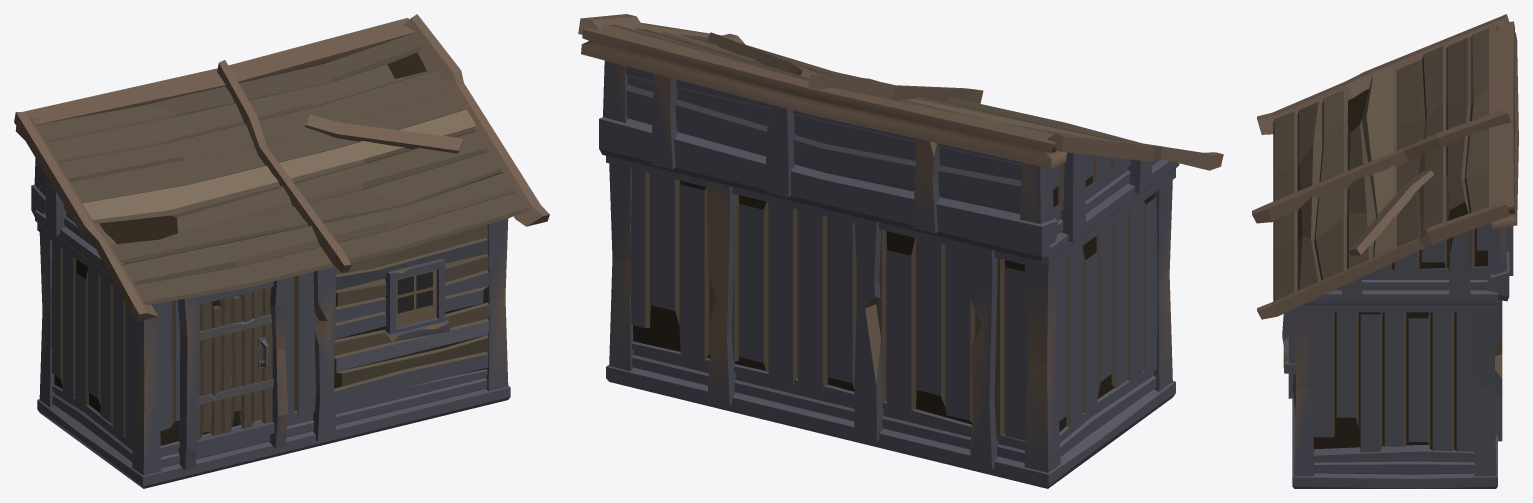
The model's file is SM_Bld_Shanty_SideAttachment_02.glb.
3 views of the same model, side by side, from view 1: azimuth 30°, elevation 25°; view 2: azimuth 150°, elevation 25°; view 3: azimuth 270°, elevation 25° (orthographic). The views are drawn at different scales.
Visible parts, largest first — view 1: SM_Bld_Shanty_SideAttachment_02; view 2: SM_Bld_Shanty_SideAttachment_02; view 3: SM_Bld_Shanty_SideAttachment_02.
Part boxes in pixels (x1,y1,x2,y2): SM_Bld_Shanty_SideAttachment_02: (14, 14, 549, 488); SM_Bld_Shanty_SideAttachment_02: (578, 14, 1223, 488); SM_Bld_Shanty_SideAttachment_02: (1252, 14, 1518, 488).
Size of the model in its own units: 0.0558 by 0.0393 by 0.0323.
